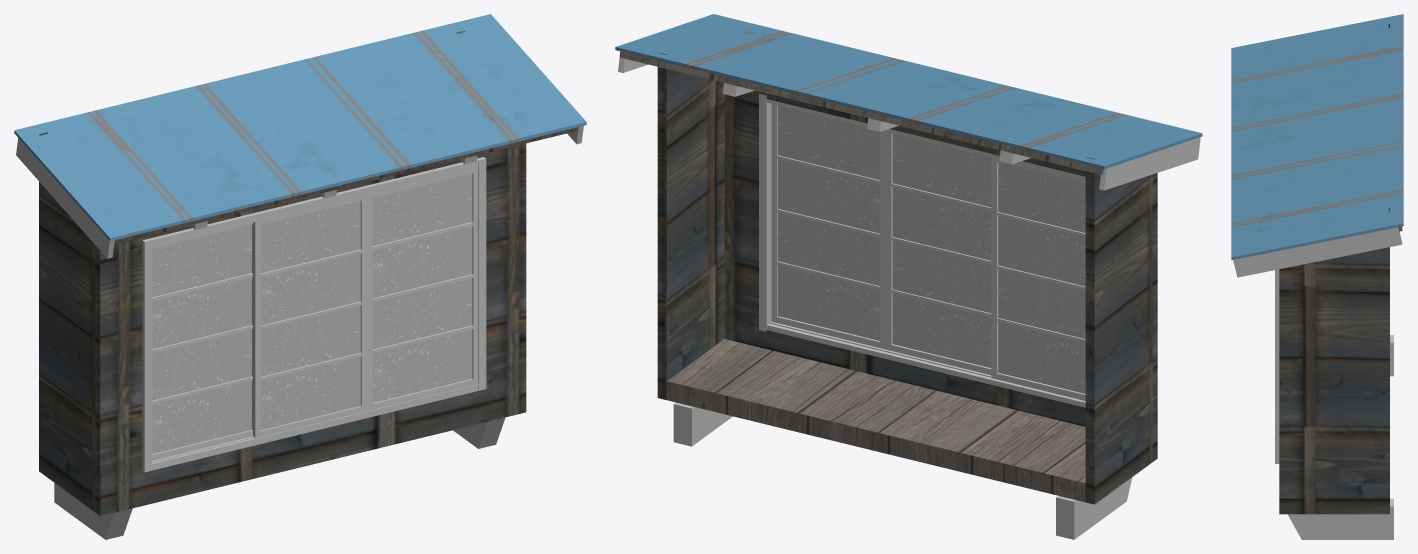
The model's file is JpHouse_23_barcony.fbx.
3 renders of one model, left to right at view 1: azimuth 30°, elevation 25°; view 2: azimuth 150°, elevation 25°; view 3: azimuth 270°, elevation 25°, orthographic. The views are drawn at different scales.
Visible parts, largest first — view 1: JpHouse_23_barcony; view 2: JpHouse_23_barcony; view 3: JpHouse_23_barcony.
Part boxes in pixels (x1=…): JpHouse_23_barcony: x1=14, y1=14, x2=586, y2=539; JpHouse_23_barcony: x1=615, y1=14, x2=1202, y2=539; JpHouse_23_barcony: x1=1231, y1=14, x2=1403, y2=539.
Size of the model in its own units: 2.68 by 2.03 by 0.935.
